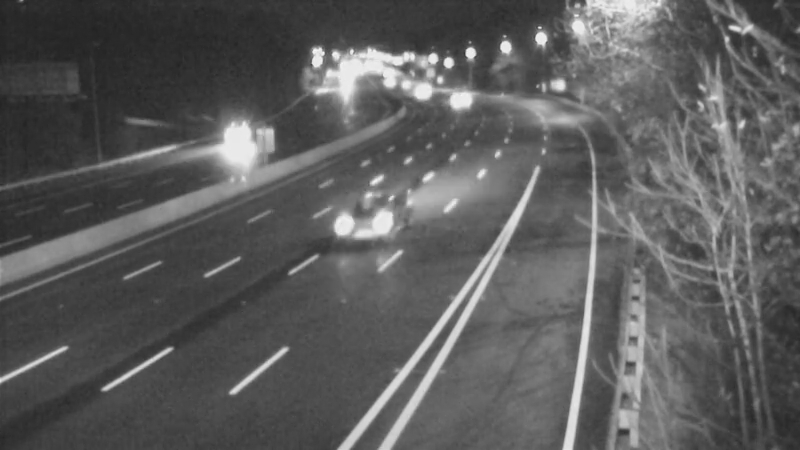vehicle: (333, 179, 413, 259), (428, 72, 478, 122), (212, 117, 262, 167)
